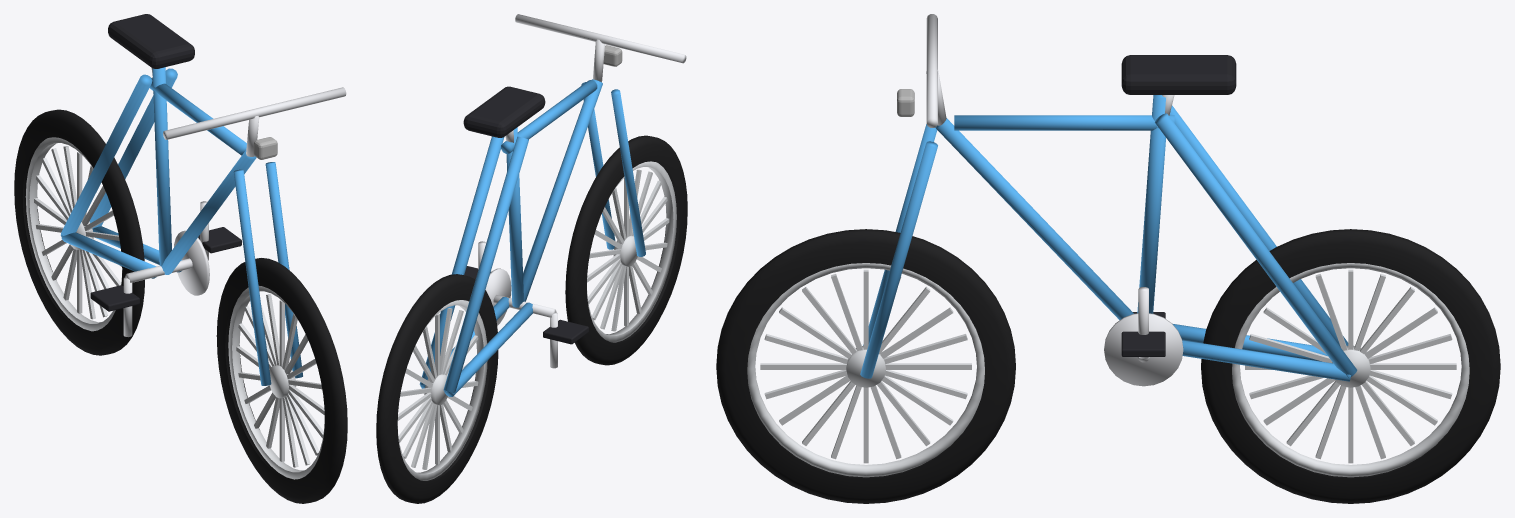
The model's file is cruiser.glb.
3 views of the same model, side by side, from view 1: azimuth 30°, elevation 25°; view 2: azimuth 150°, elevation 25°; view 3: azimuth 270°, elevation 25° (orthographic). The views are drawn at different scales.
Visible parts, largest first — view 1: tire, tire.001, seat, rimring.001, rimring, tube.002, tube.006, leg.001, tube.001, bar, leg, tube.005 (+17 smaller); view 2: tire.001, tire, tube.006, tube.001, seat, rimring, tube.005, rimring.001, leg.001, bar, tube.002, tube.004 (+11 smaller); view 3: tire, tire.001, rimring, rimring.001, tube.005, seat, tube.001, chainring, tube, leg, tube.002, tube.003 (+6 smaller).
Part boxes in pixels (x1,y1,x2,y2): tire: (216, 258, 347, 503); tire.001: (14, 109, 144, 355); seat: (108, 14, 194, 68); rimring.001: (25, 137, 122, 331); rimring: (228, 286, 324, 479); tube.002: (152, 67, 171, 266); tube.006: (60, 74, 152, 235); leg.001: (233, 169, 271, 385); tube.001: (161, 150, 256, 274); bar: (163, 87, 346, 139); leg: (265, 162, 302, 378); tube.005: (89, 68, 177, 228); tire.001: (376, 274, 498, 503); tire: (565, 135, 687, 365); tube.006: (443, 136, 528, 392); tube.001: (523, 79, 602, 301); seat: (463, 86, 545, 137); rimring: (587, 161, 676, 342); tube.005: (419, 136, 504, 385); rimring.001: (397, 300, 487, 480); leg.001: (611, 89, 645, 256); bar: (515, 14, 686, 63); tube.002: (506, 127, 523, 307); tube.004: (444, 302, 533, 396); tire: (716, 229, 1015, 503); tire.001: (1201, 229, 1500, 503); rimring: (747, 263, 984, 477); rimring.001: (1232, 263, 1469, 477); tube.005: (1155, 113, 1357, 377); seat: (1121, 55, 1236, 94); tube.001: (935, 118, 1133, 320); chainring: (1104, 313, 1183, 386); tube: (954, 115, 1174, 130); leg: (860, 141, 937, 378); tube.002: (1137, 95, 1165, 313); tube.003: (1182, 340, 1350, 381).
Size of what is drawn, in the model's own units: 0.56 by 1.1 by 1.78.
